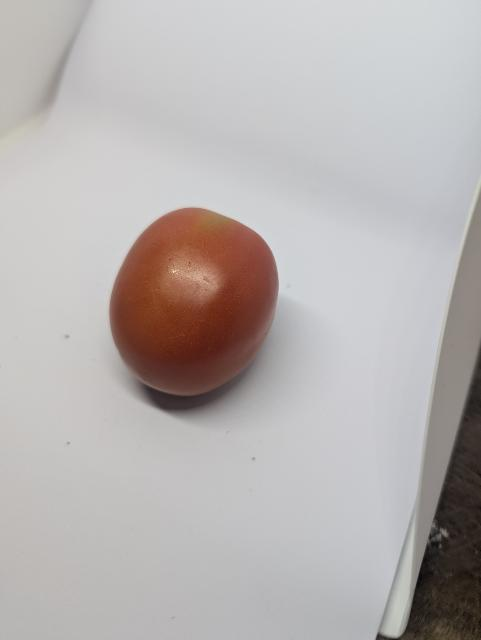turning: (100, 205, 283, 398)
